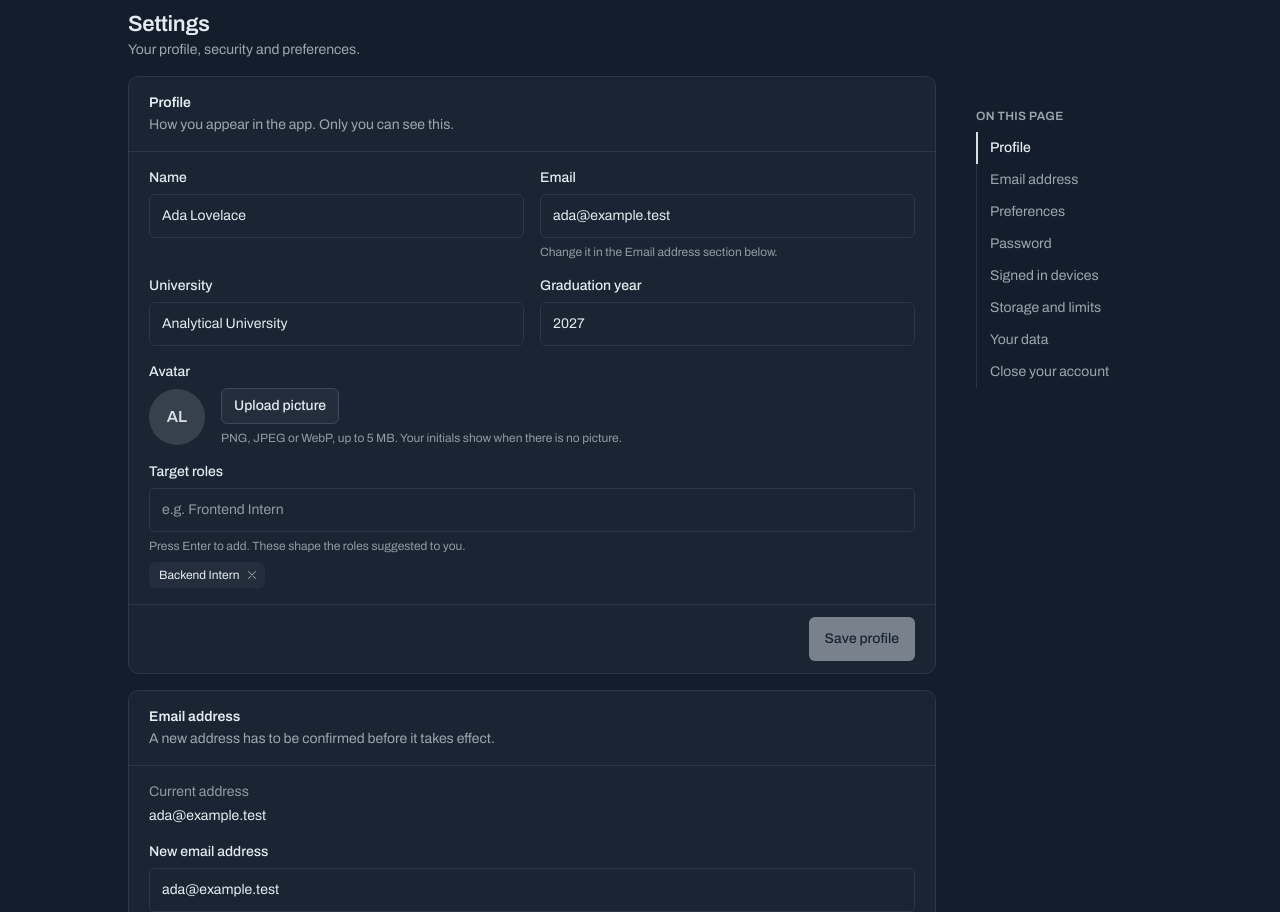
Scenario: settings profile › puts a server field error on the field it belongs to
Replace the text in the field labelled "Name" with "Ada L" at [336, 216], box x1=149 y1=194 x2=524 y2=238
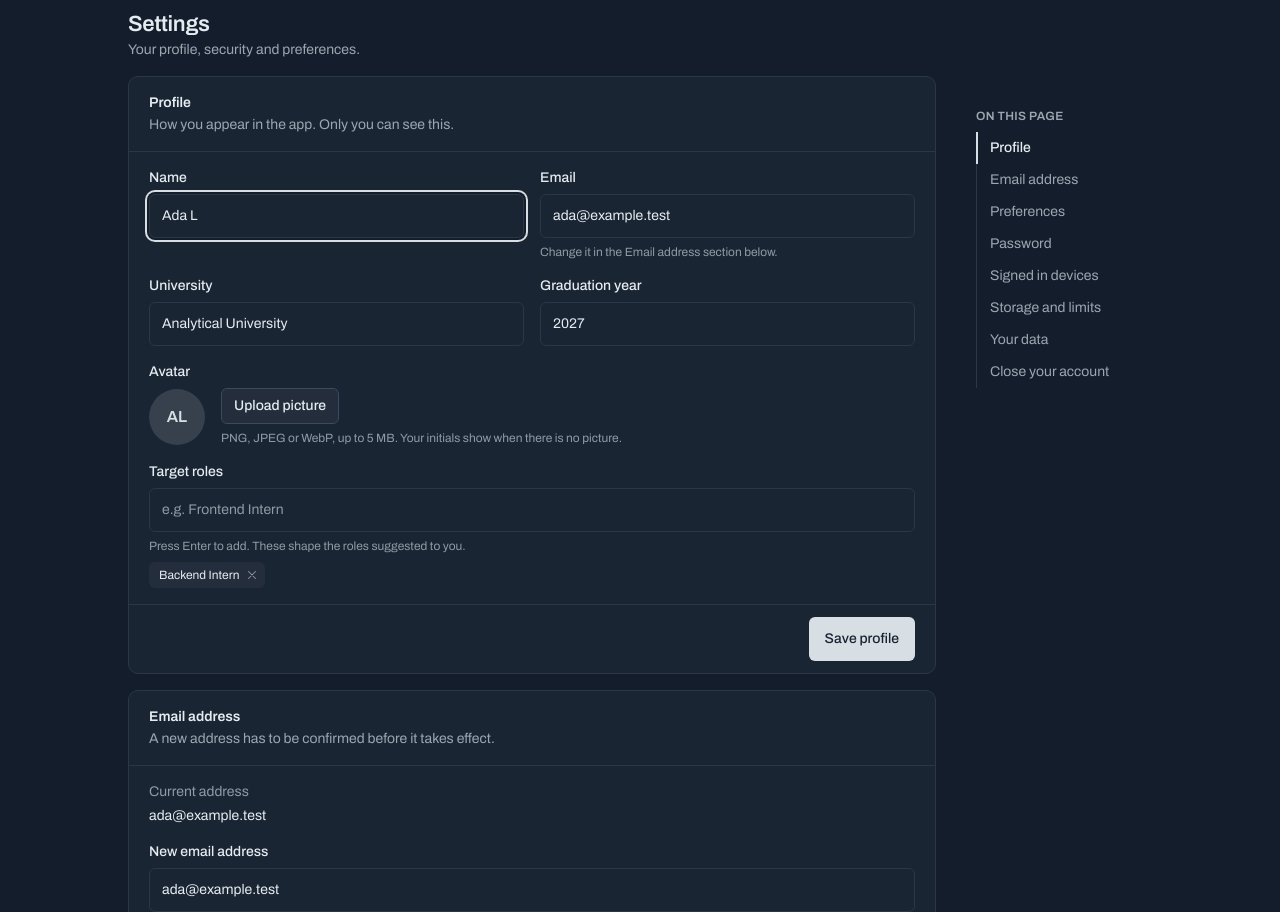
Click the button "Save profile" at [862, 639], box x1=809 y1=617 x2=915 y2=661
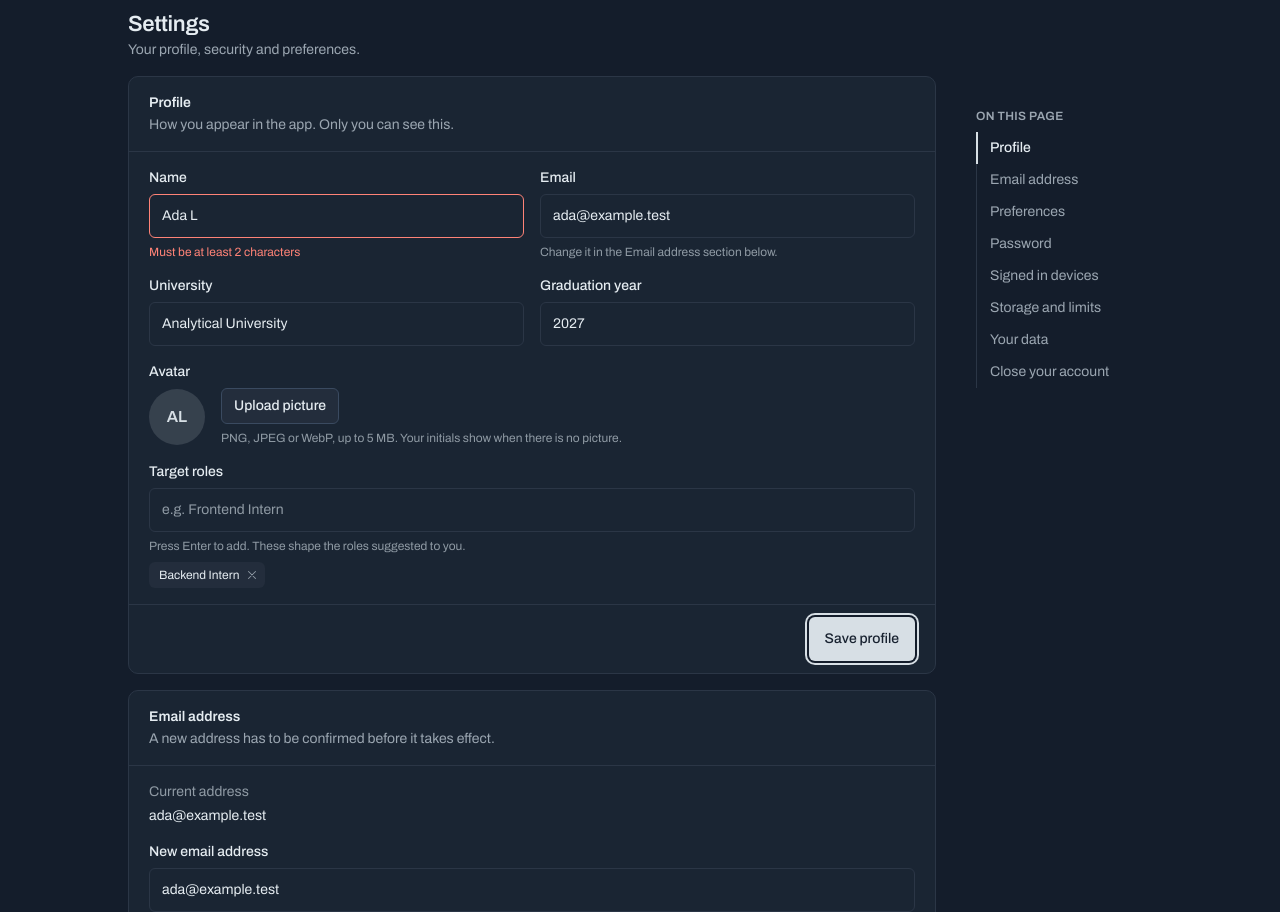
Now the text "Must be at least 2 characters" is shown, box x1=149 y1=245 x2=300 y2=259
